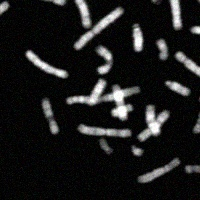chromosome: (75, 6, 123, 49), (67, 87, 141, 104), (26, 49, 68, 78), (138, 157, 180, 182), (138, 111, 169, 141), (78, 123, 132, 136), (67, 0, 91, 28), (175, 51, 200, 76), (42, 98, 58, 134), (112, 85, 127, 120), (87, 79, 106, 105), (146, 103, 159, 139), (166, 0, 182, 29), (96, 46, 111, 73), (165, 80, 190, 95), (133, 21, 143, 50), (0, 1, 9, 33), (99, 137, 112, 154), (156, 40, 167, 60), (112, 104, 131, 115), (32, 0, 65, 5), (193, 111, 200, 134), (185, 165, 200, 174), (130, 145, 142, 156), (191, 24, 200, 34), (137, 0, 159, 2), (199, 76, 200, 103), (197, 0, 200, 6)
